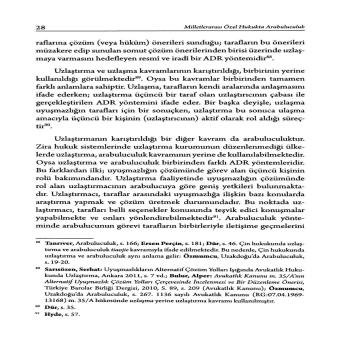footer: (42, 240, 308, 317)
header: (182, 22, 306, 29)
